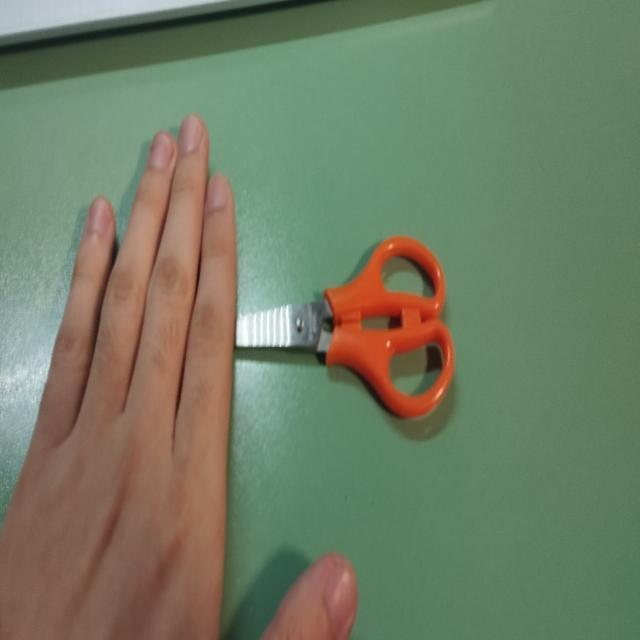tesoura: (189, 223, 457, 430)
